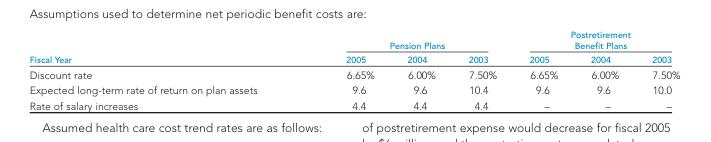table: (28, 29, 679, 111)
table column: (28, 29, 300, 111), (300, 29, 390, 111), (390, 29, 451, 111), (451, 29, 512, 111), (512, 29, 573, 111), (573, 29, 634, 111), (634, 29, 679, 111)
table column header: (28, 29, 679, 66)
table row: (28, 29, 679, 52), (28, 81, 679, 97), (28, 66, 679, 81), (28, 52, 679, 66), (28, 97, 679, 111)
table spanning cell: (28, 29, 300, 66), (300, 29, 512, 52), (512, 29, 679, 52)
